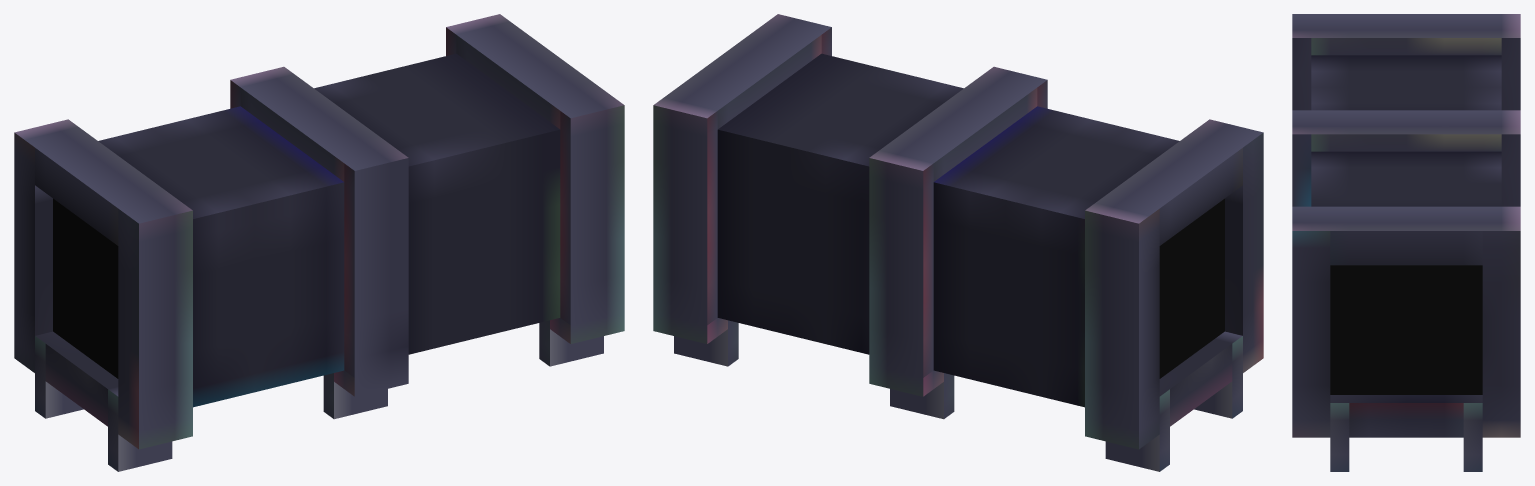
The model's file is Vent_Module_I_00.fbx.
3 renders of one model, left to right at view 1: azimuth 30°, elevation 25°; view 2: azimuth 150°, elevation 25°; view 3: azimuth 270°, elevation 25°, orthographic. The views are drawn at different scales.
Visible parts, largest first — view 1: Vent_Module_I_00; view 2: Vent_Module_I_00; view 3: Vent_Module_I_00.
Boxes of the visible parts, x1,y1,x2,y2 form: Vent_Module_I_00: (14,14,624,471); Vent_Module_I_00: (653,14,1263,471); Vent_Module_I_00: (1292,14,1520,471).
Size of the model in its own units: 135 by 70 by 60.
